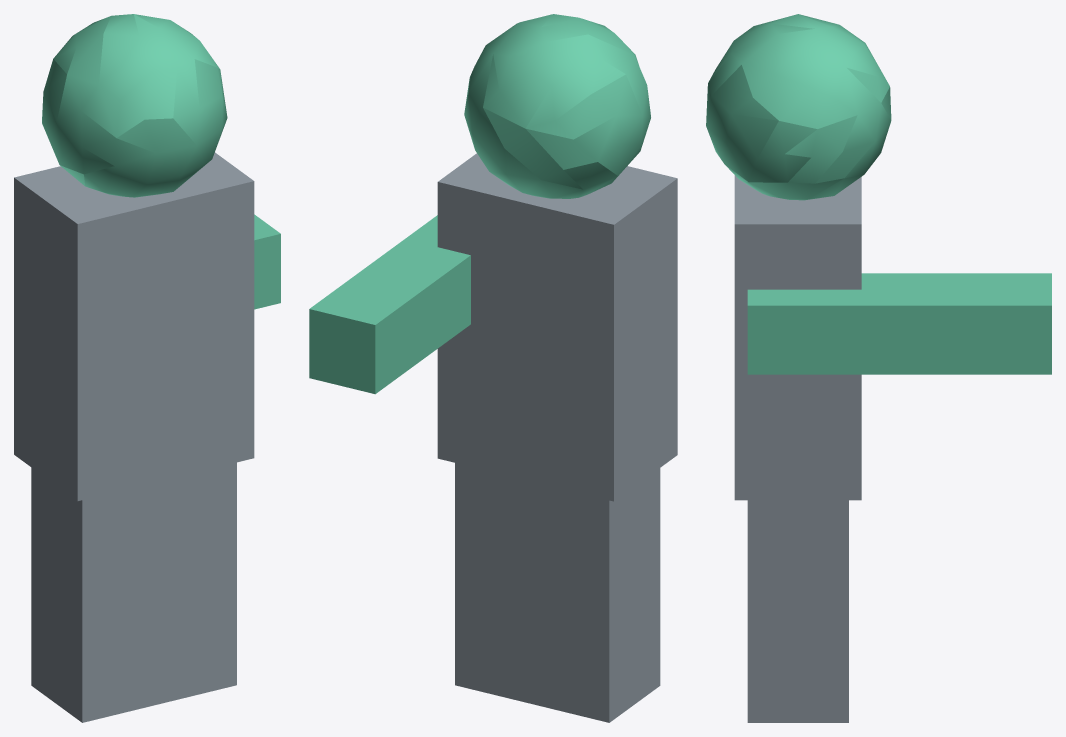
The model's file is CO_ShengongMarksman_LOD2.glb.
The picture shows the model from 3 angles, left to right: view 1: azimuth 30°, elevation 25°; view 2: azimuth 150°, elevation 25°; view 3: azimuth 270°, elevation 25°; orthographic projection.
Parts seen in each view (by area): view 1: Head; view 2: Head; view 3: Head.
Part boxes in pixels (box(x1,y1,x2,y2)): Head: box(14, 14, 280, 722); Head: box(309, 14, 677, 722); Head: box(706, 14, 1051, 722).
Size of the model in its own units: 57 by 172 by 81.81.
